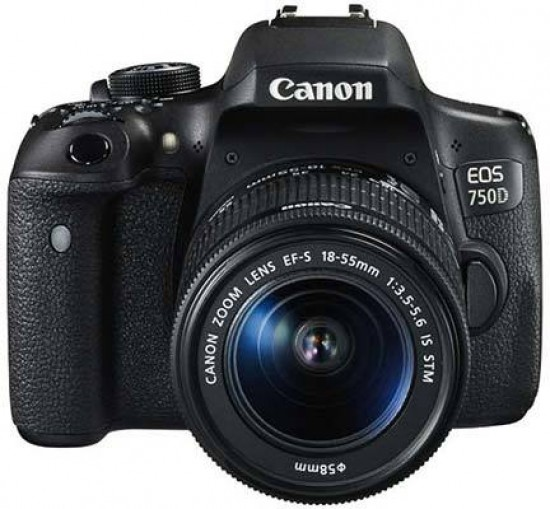camera: (11, 42, 540, 492)
